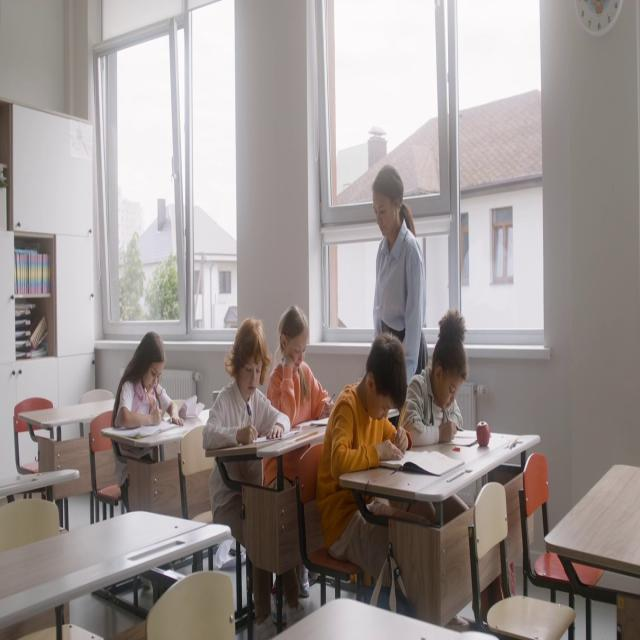reading: (268, 305, 332, 438)
writing: (318, 334, 433, 620), (204, 317, 292, 467), (402, 309, 469, 445), (113, 331, 183, 440)
